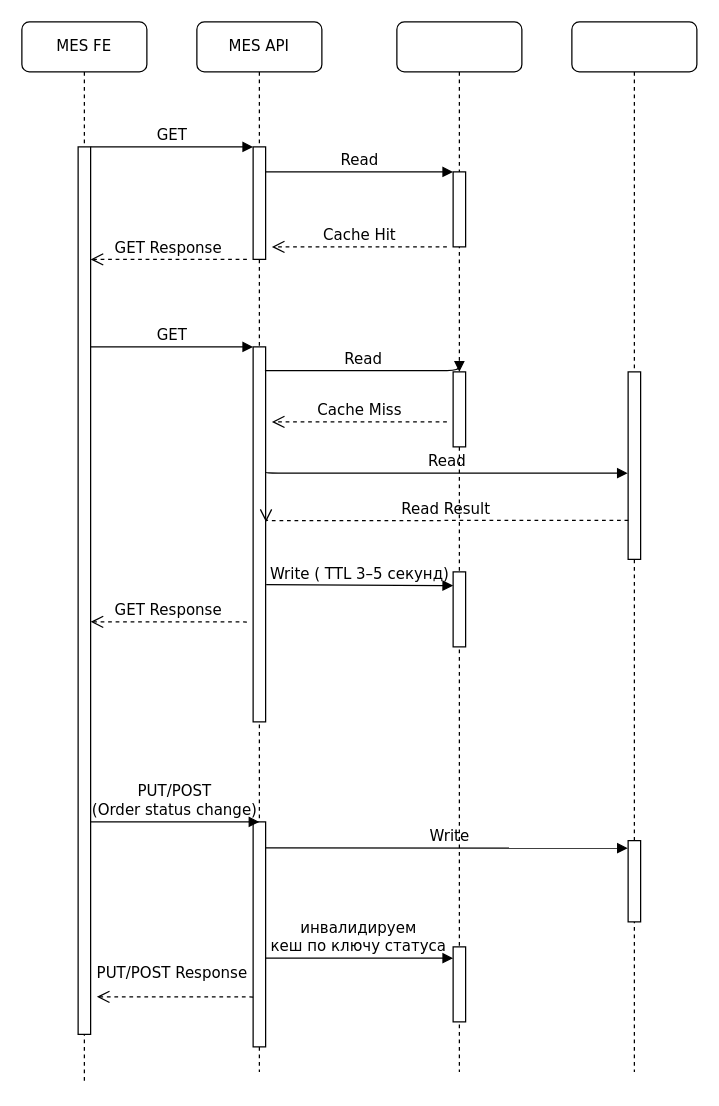
Image size: 719x1106. Some labels were removed from this diagram. The box of each missing label's shape, as (x1, y1, x2, y2) in pixels:
MES Db: (571, 21, 697, 1072)
Redis Cache: (396, 21, 522, 1072)
